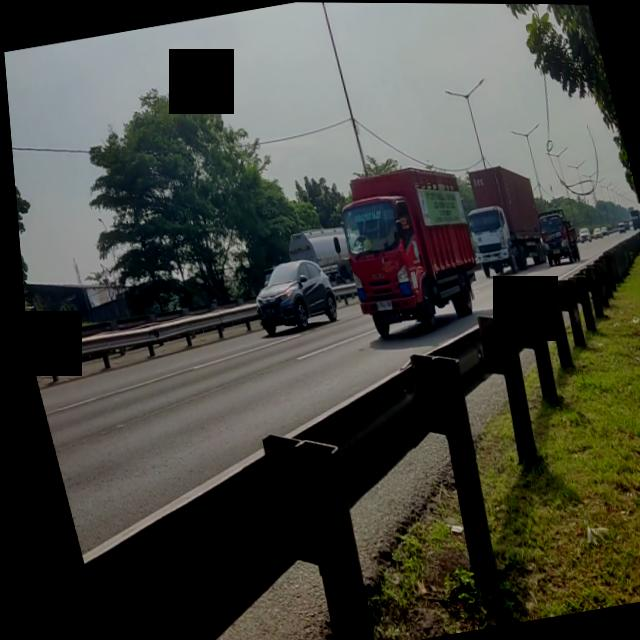Golongan I: (239, 247, 342, 340)
Golongan II: (322, 159, 489, 347)
